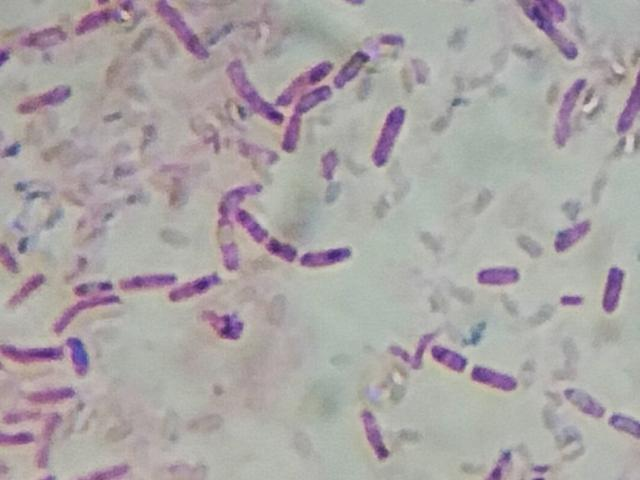E. coli: (228, 59, 279, 126), (524, 0, 581, 59), (288, 91, 335, 160), (161, 3, 208, 59), (376, 102, 410, 173), (56, 293, 123, 327), (358, 410, 397, 465), (556, 76, 585, 146), (471, 365, 527, 401), (551, 220, 597, 263), (302, 239, 363, 271), (612, 66, 640, 135), (78, 9, 130, 45), (598, 260, 629, 317), (23, 85, 78, 117), (9, 270, 48, 314), (565, 379, 601, 424), (282, 58, 341, 85), (218, 177, 258, 213), (6, 336, 66, 360), (469, 262, 522, 289), (212, 222, 242, 269), (338, 50, 375, 88), (426, 339, 465, 375), (66, 339, 102, 378), (172, 272, 220, 301), (38, 412, 63, 467), (23, 25, 72, 53), (122, 267, 178, 288), (75, 275, 123, 298), (31, 385, 83, 406), (242, 207, 272, 242), (0, 235, 25, 275), (615, 410, 640, 448), (490, 444, 515, 480), (266, 233, 297, 262), (1, 420, 32, 446)
